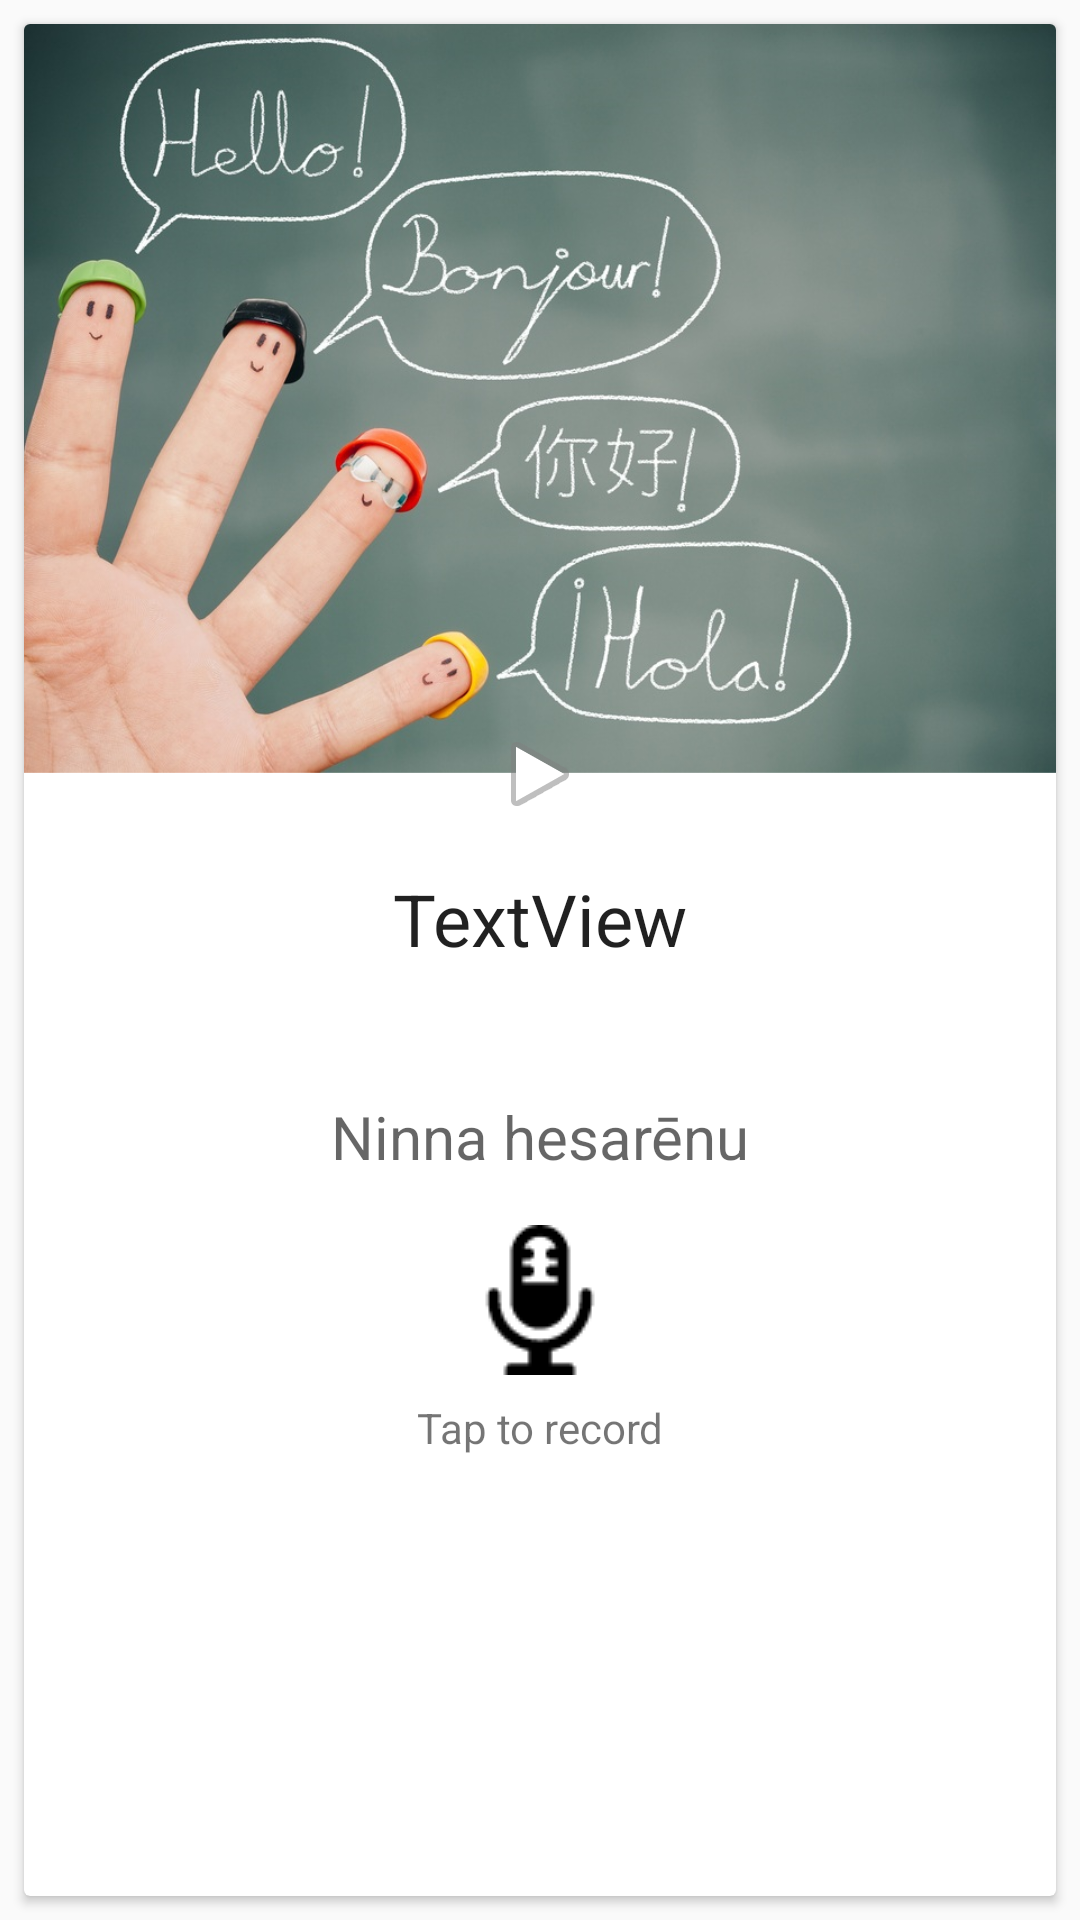

Icons on this 1080*1920 Android screen, each with the point to tap as (x,y):
microphone: (540,1300)
play: (540,774)
